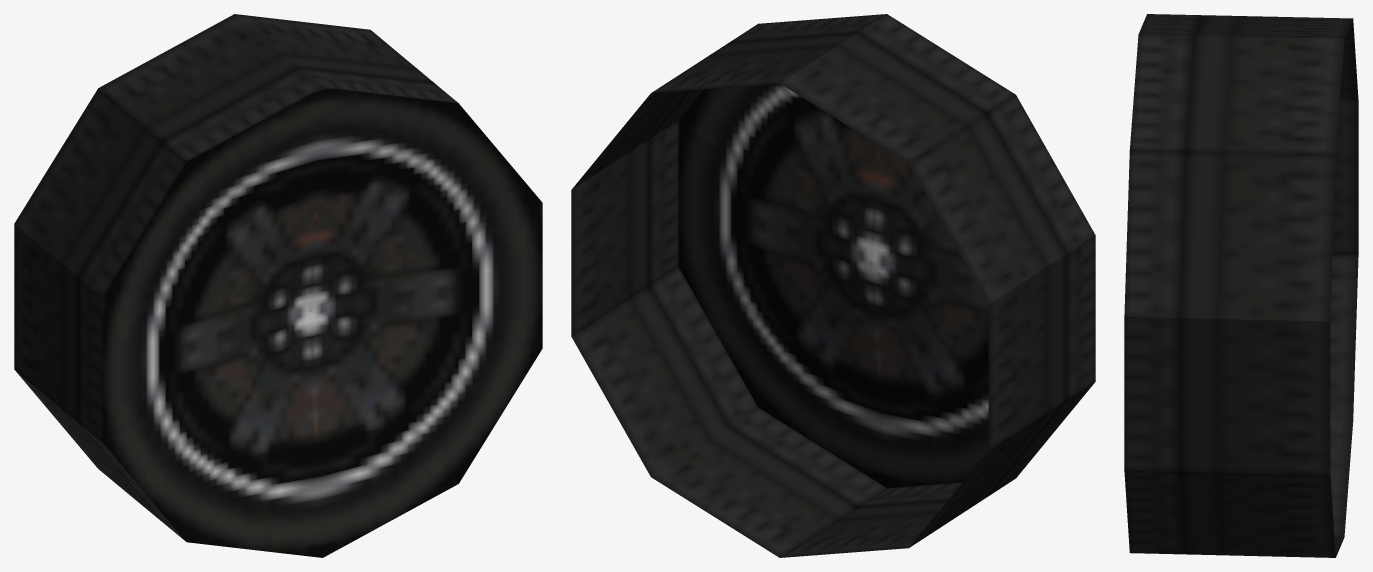
The model's file is bmw_ds.obj.
The picture shows the model from 3 angles, left to right: view 1: azimuth 30°, elevation 25°; view 2: azimuth 150°, elevation 25°; view 3: azimuth 270°, elevation 25°; orthographic projection. The views are drawn at different scales.
Parts seen in each view (by area): view 1: mesh_3.004; view 2: mesh_3.004; view 3: mesh_3.004.
Boxes of the visible parts, left/top/right/bottom form: mesh_3.004: left=14, top=14, right=542, bottom=557; mesh_3.004: left=571, top=14, right=1095, bottom=557; mesh_3.004: left=1124, top=14, right=1358, bottom=557.
Size of the model in its own units: 0.4976 by 0.5135 by 0.2187.
Materials: 1 (1 with a texture image).
